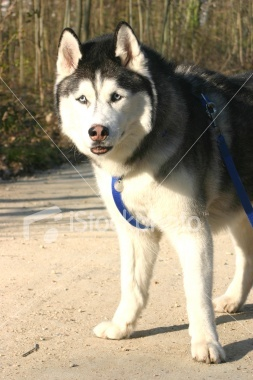dog: (50, 21, 251, 362)
